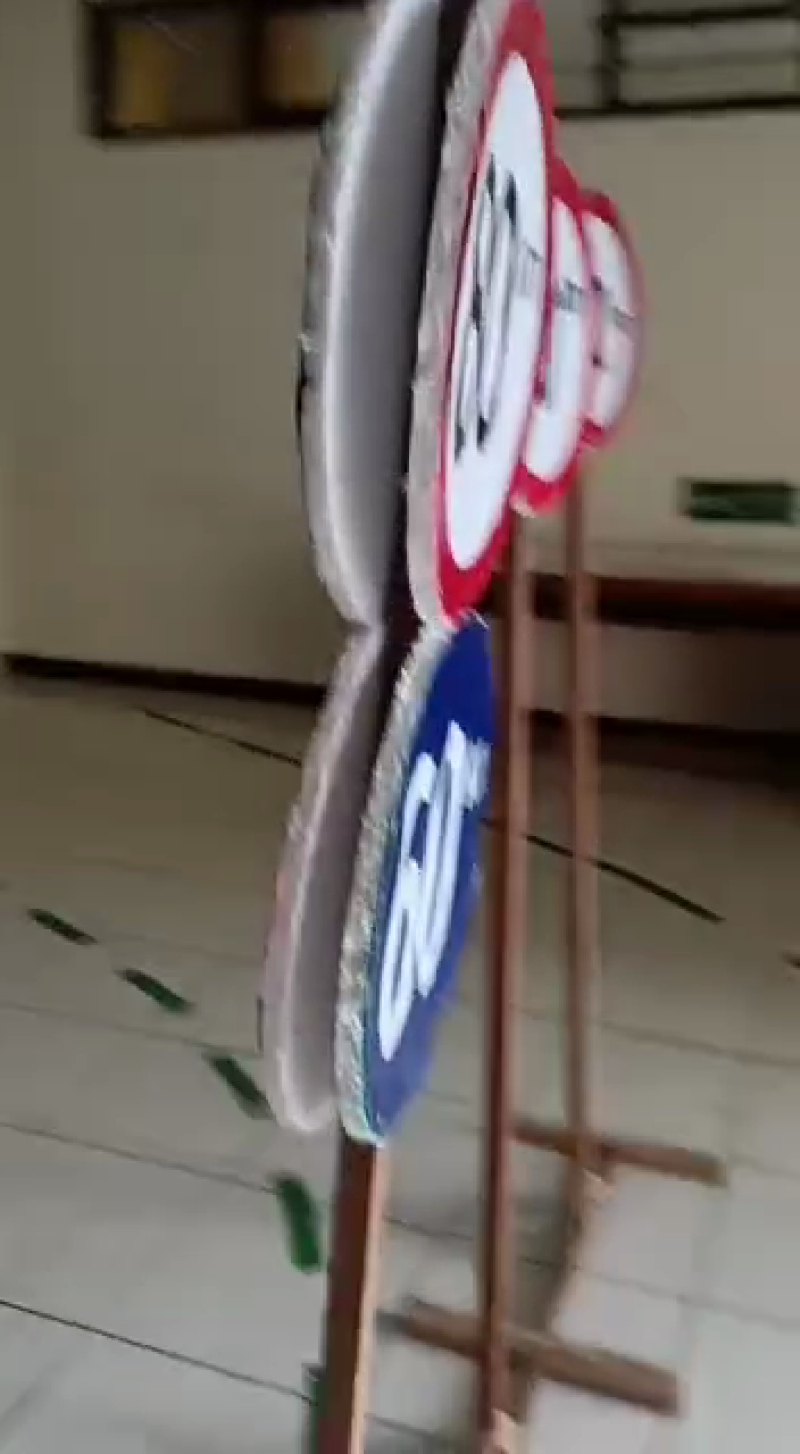batas maksimal 80kmperjam minimal 60kmperjam: (334, 1, 563, 1163)
